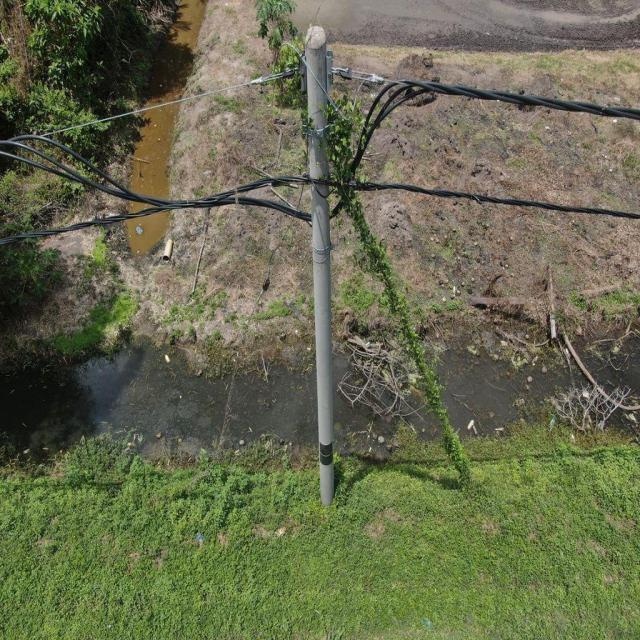critical vegetation: (276, 23, 480, 496)
